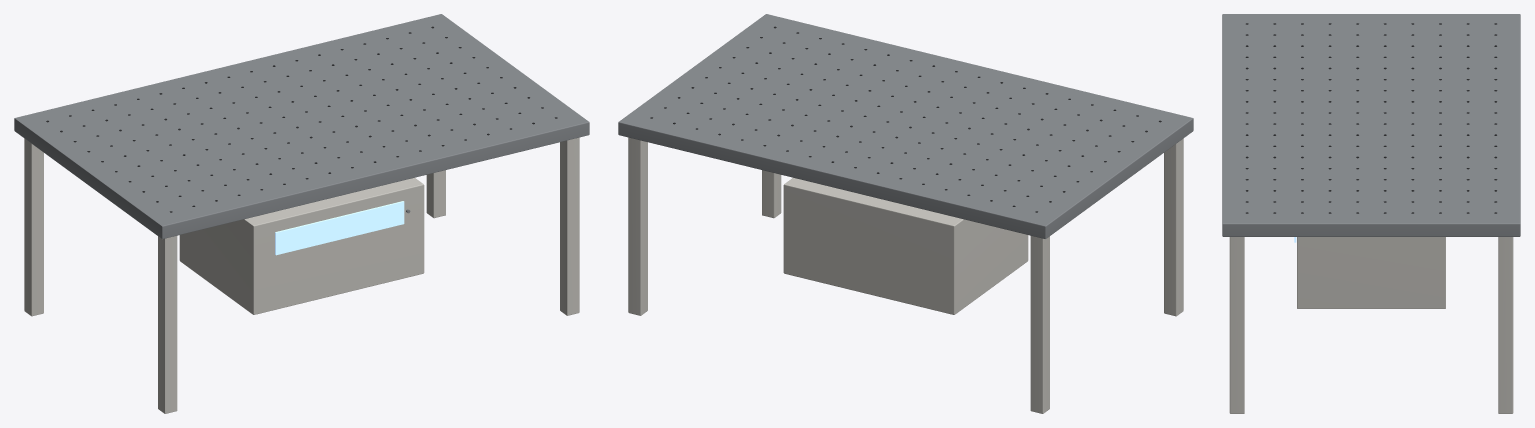
The model's file is prop_suction_table.glb.
3 renders of one model, left to right at view 1: azimuth 30°, elevation 25°; view 2: azimuth 150°, elevation 25°; view 3: azimuth 270°, elevation 25°, orthographic.
Parts seen in each view (by area): view 1: Table; view 2: Table; view 3: Table.
Part boxes in pixels (bbox=[...]): Table: bbox=[14, 14, 589, 413]; Table: bbox=[618, 14, 1193, 413]; Table: bbox=[1222, 14, 1520, 413].
Size of what is drawn, in the model's own units: 2 by 0.8615 by 1.2.
